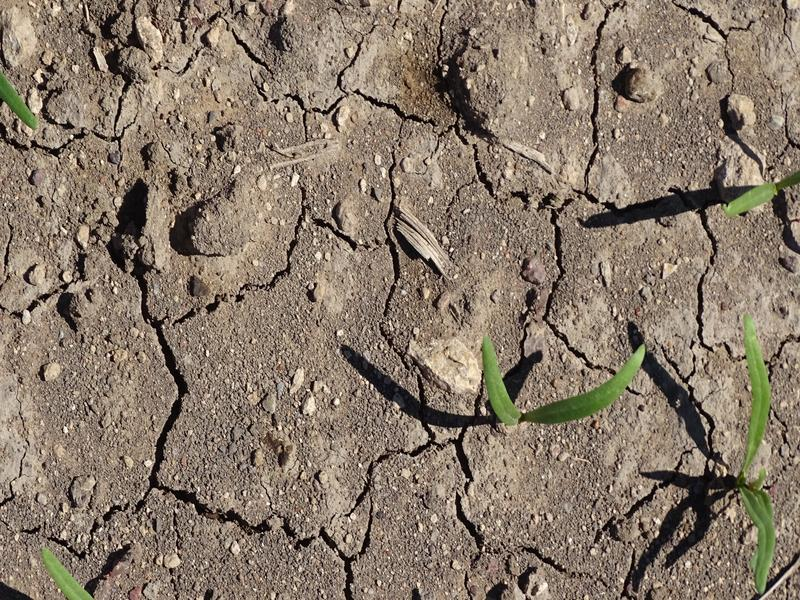Espinaca: (473, 335, 642, 426), (738, 319, 785, 581), (39, 543, 93, 597), (734, 165, 787, 219)
